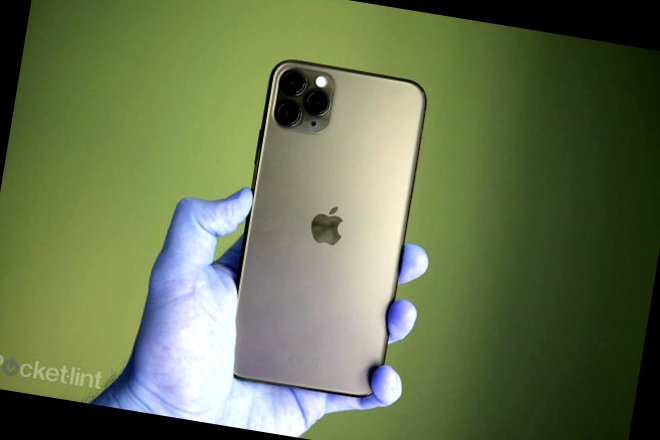iphone: (240, 50, 418, 382)
